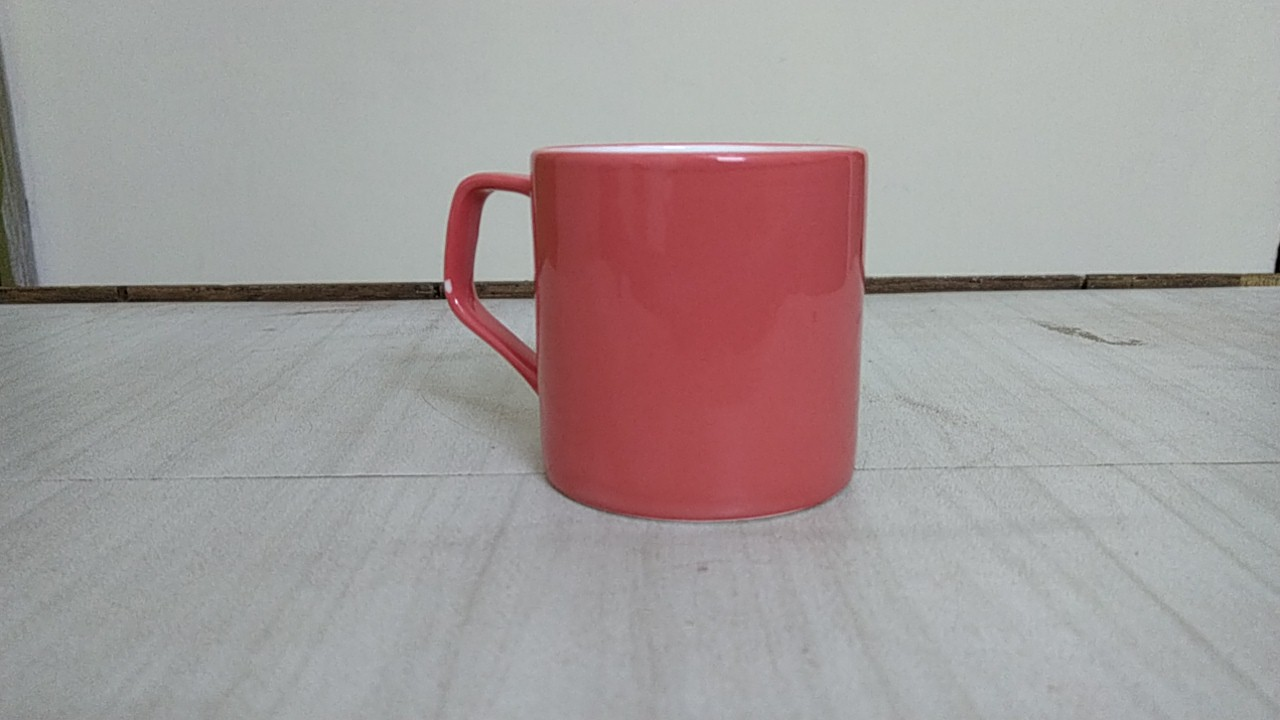cup: (433, 124, 889, 529)
